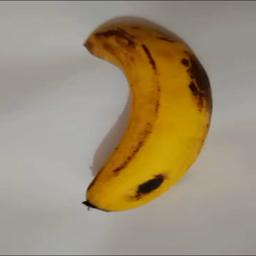Banana Semifresh: (78, 23, 215, 219)
